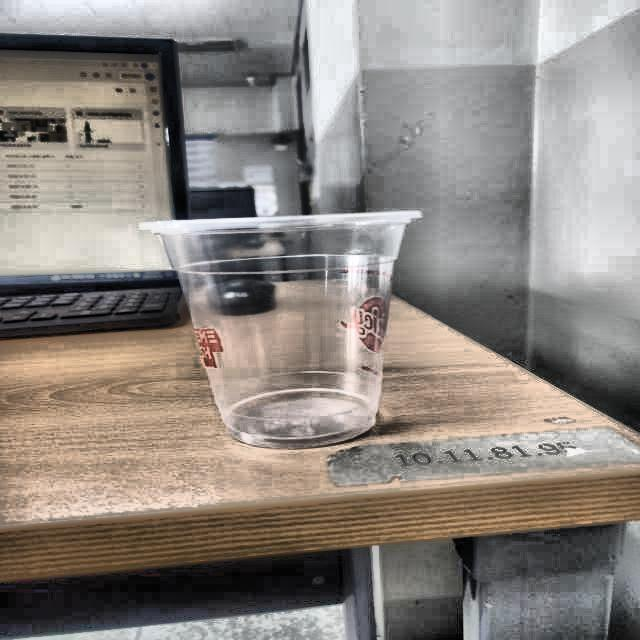plastic cup: (136, 209, 434, 448)
